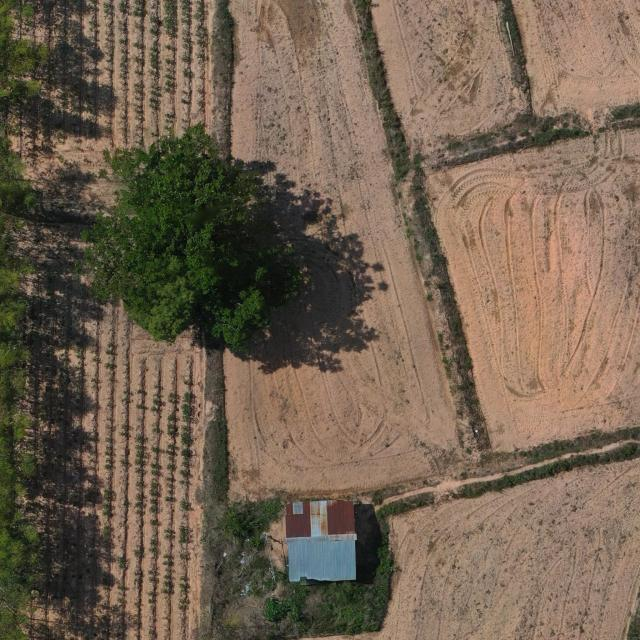Tree: (70, 121, 303, 345)
